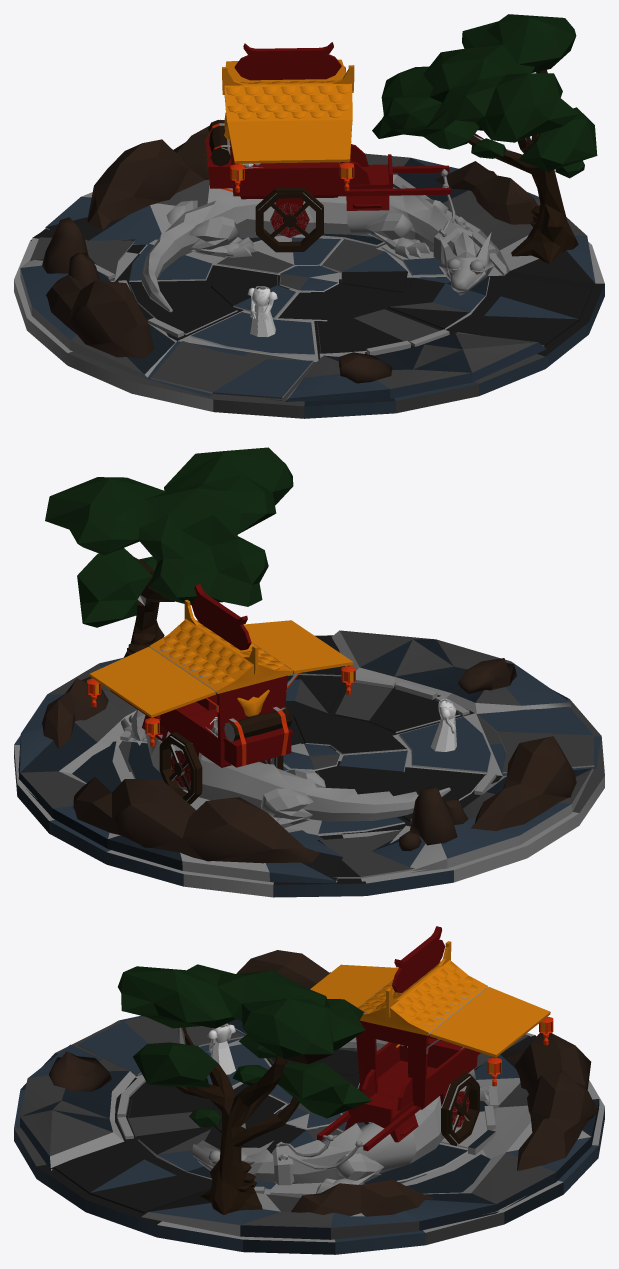
File: Shop_Textured (1).obj
The picture shows the model from 3 angles, top to bottom: view 1: azimuth 30°, elevation 25°; view 2: azimuth 150°, elevation 25°; view 3: azimuth 270°, elevation 25°; orthographic projection.
Parts seen in each view (by area): view 1: Final_Scene_Dragon_Shop_By_Nive_II:polySurface1; view 2: Final_Scene_Dragon_Shop_By_Nive_II:polySurface1; view 3: Final_Scene_Dragon_Shop_By_Nive_II:polySurface1.
Part boxes in pixels (x1,y1,x2,y2): Final_Scene_Dragon_Shop_By_Nive_II:polySurface1: (14,14,604,418); Final_Scene_Dragon_Shop_By_Nive_II:polySurface1: (14,447,604,897); Final_Scene_Dragon_Shop_By_Nive_II:polySurface1: (14,926,604,1254).
Bounding box in the file's own units: 13.54 × 5.84 × 13.36.
